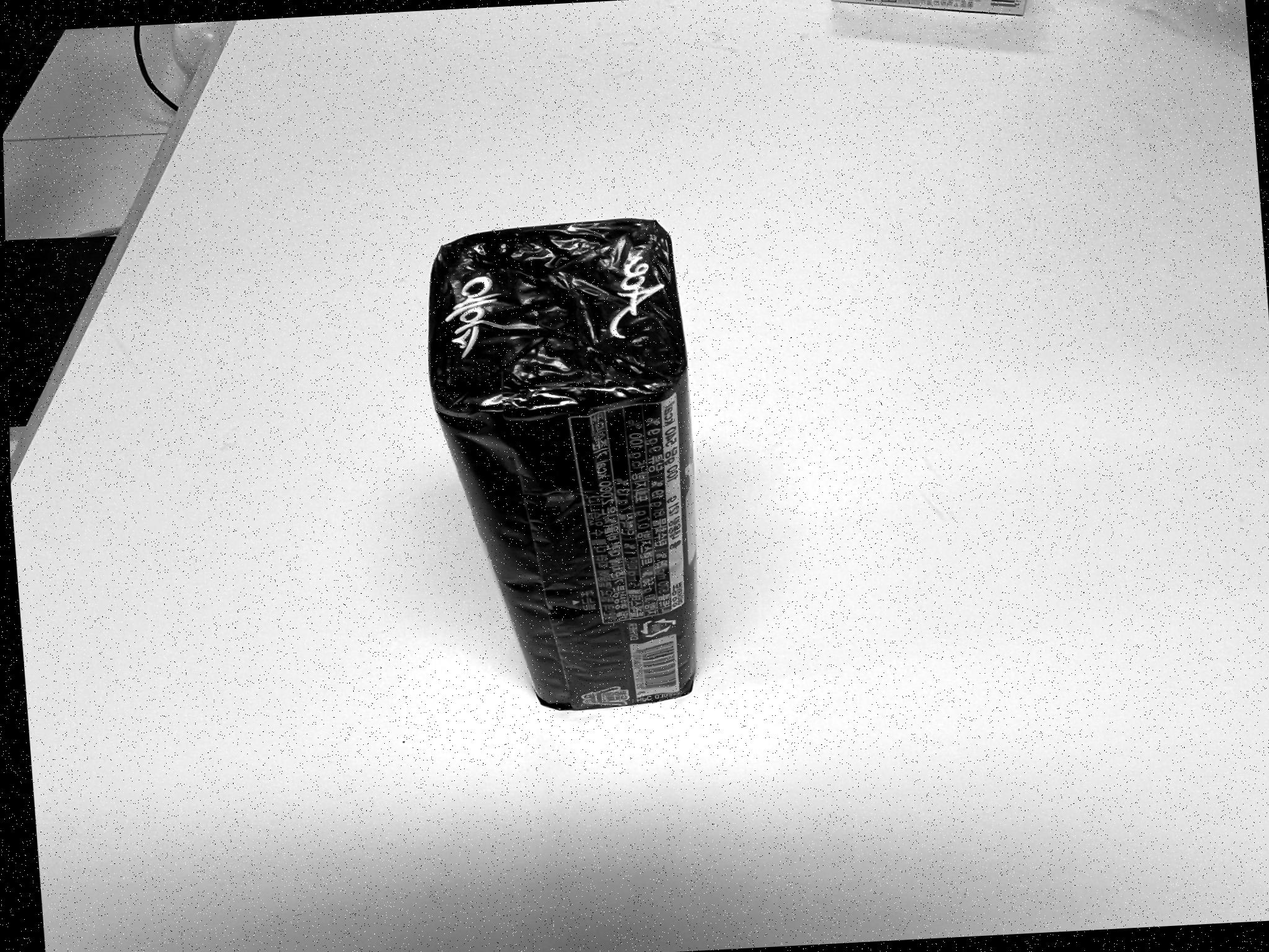cracker_ace: (426, 215, 699, 708)
